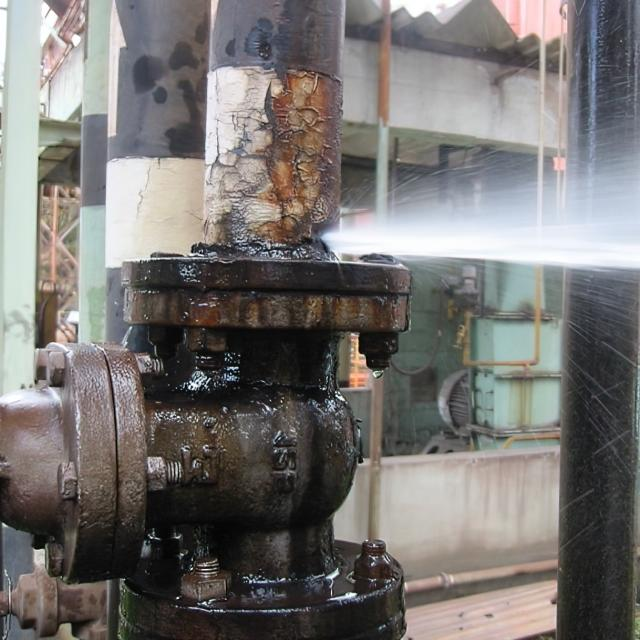leak: (320, 83, 640, 291)
